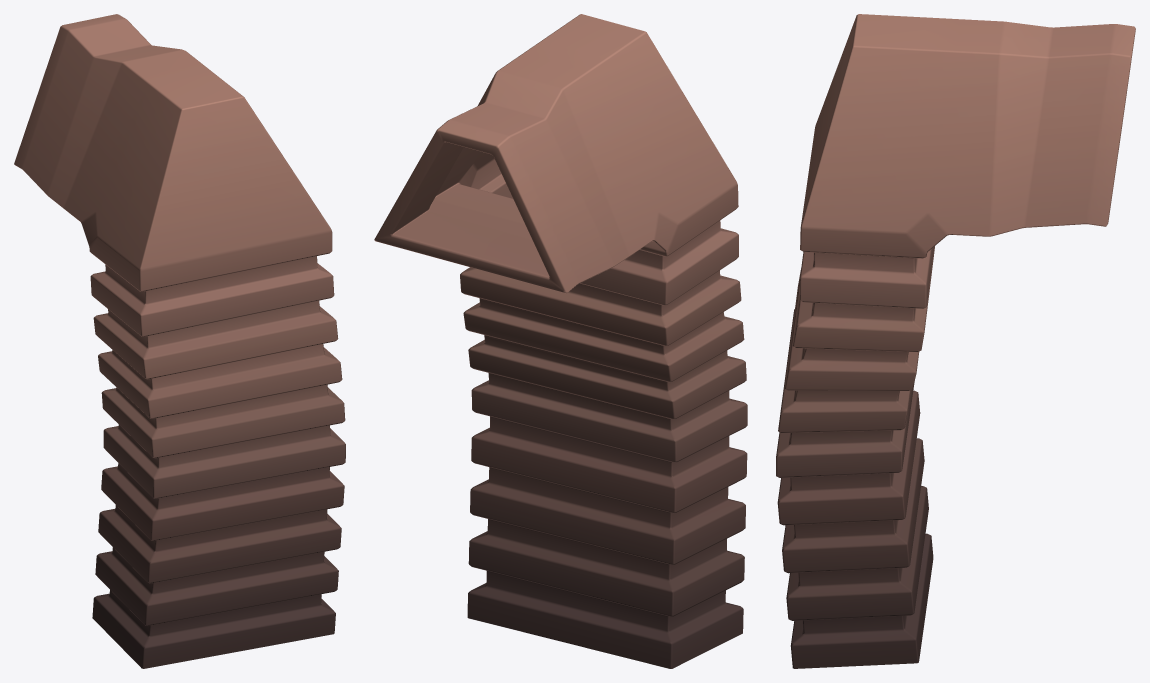
Rendered from present_drop.glb.
3 views of the same model, side by side, from view 1: azimuth 30°, elevation 25°; view 2: azimuth 150°, elevation 25°; view 3: azimuth 270°, elevation 25° (orthographic). The views are drawn at different scales.
Visible parts, largest first — view 1: Hub_PO_tubes-edited.001; view 2: Hub_PO_tubes-edited.001; view 3: Hub_PO_tubes-edited.001.
Boxes of the visible parts, left/top/right/bottom form: Hub_PO_tubes-edited.001: left=14, top=14, right=345, bottom=668; Hub_PO_tubes-edited.001: left=374, top=14, right=747, bottom=668; Hub_PO_tubes-edited.001: left=776, top=14, right=1135, bottom=668.
Size of the model in its own units: 2.4 by 6.2 by 3.43.
1 material, 1 textured.
